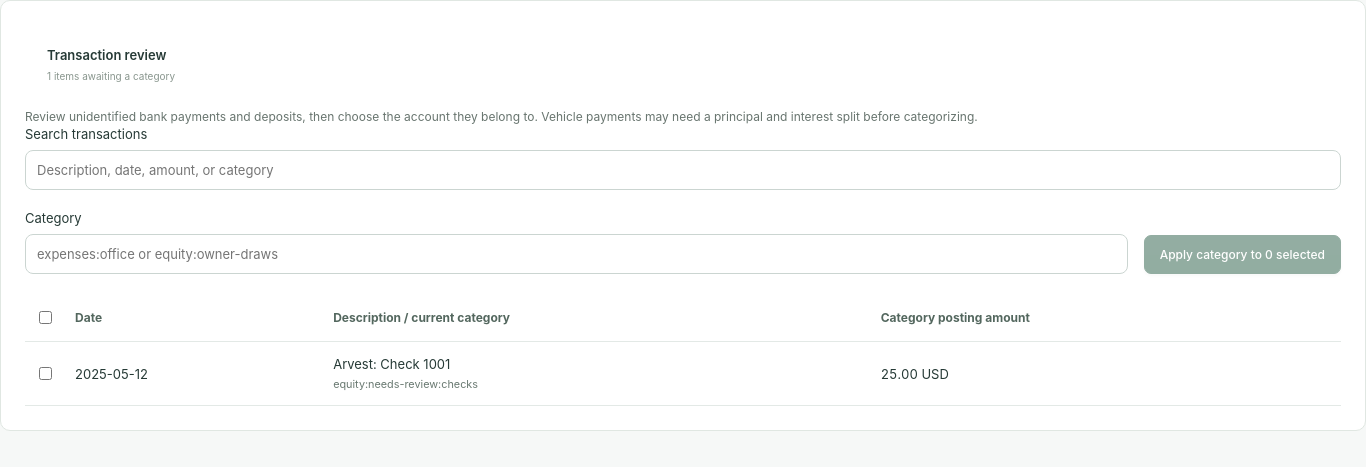
Test case: save errors preserve selection and show error
The width and height of the screenshot is (1366, 467).
Click the checkbox named "Select Arvest" at coordinates (46, 374), box [39,367,52,380]
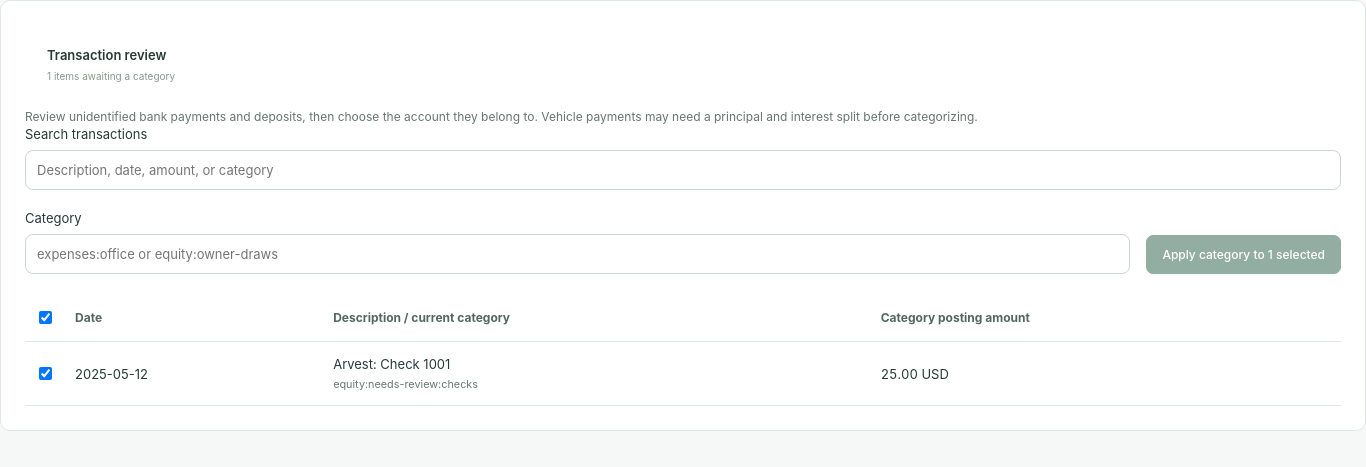
Type "expenses:office" into the field named "Review category" at coordinates (578, 254), box [25,234,1130,274]
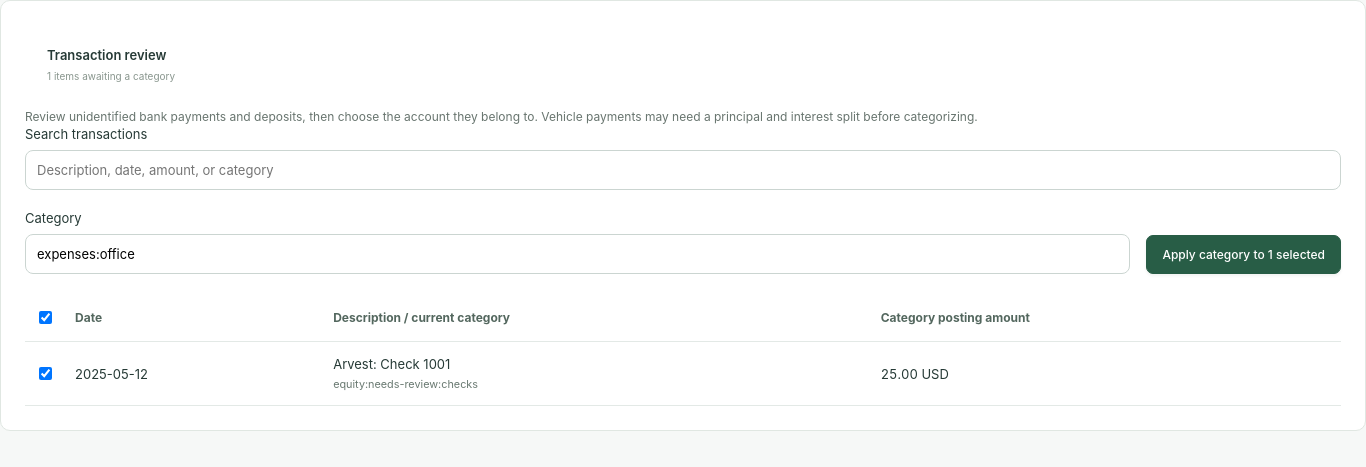
Click the button "Apply category to 1 selected" at coordinates (1244, 255), box [1146,235,1341,274]
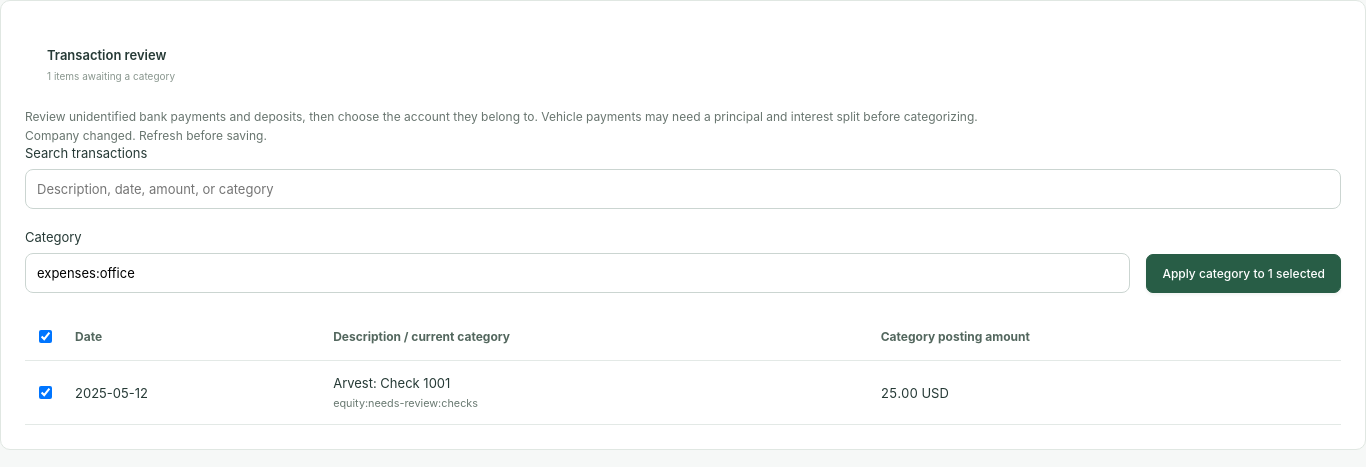
Expected: the checkbox named "Select Arvest" is checked, [39,386,52,399]
Expected: the message shows "Company changed", [25,128,267,143]
